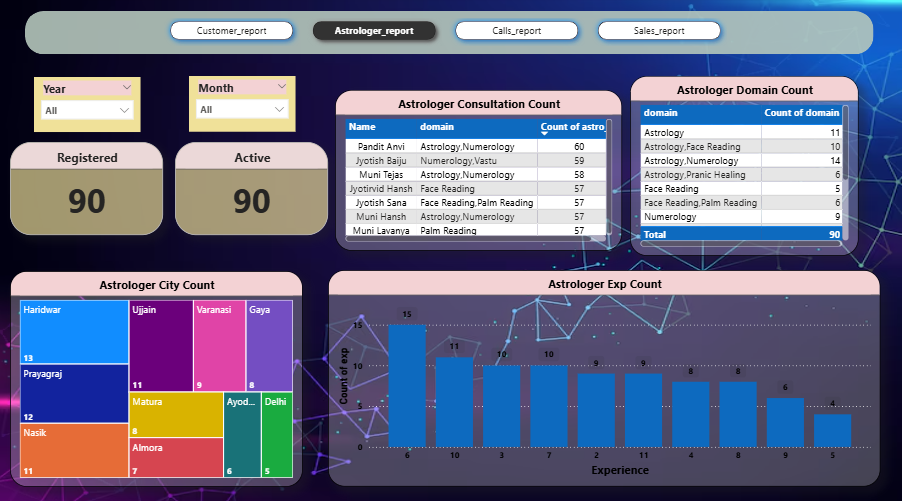

The dashboard page shown, as its layout file describes it:
{"tool":"powerbi","page":{"name":"Astrologer_report","canvas":[1280,720],"ordinal":1},"visuals":[{"type":"card","title":"Registered","fields":{"Values":["All Measures.Registered_astrologers"]},"box":[17.3,205.9,217.4,132.5],"z":0},{"type":"card","title":"Active","fields":{"Values":["All Measures.Active_astrologer"]},"box":[250.6,205.9,217.4,132.5],"z":1000},{"type":"treemap","title":"Astrologer City Count","fields":{"Group":["astro.address"],"Values":["astro.address"]},"box":[16.8,388,414.9,305.7],"z":2000},{"type":"columnChart","title":"Astrologer Exp Count","fields":{"Category":["astro.exp"],"Y":["astro.exp"]},"box":[468,387.4,783.4,306.7],"z":3000},{"type":"slicer","fields":{"Values":["Date.Date.Variation.Date Hierarchy.Year"]},"box":[50.4,113.8,151.2,77.8],"z":4000},{"type":"slicer","fields":{"Values":["Date.Date.Variation.Date Hierarchy.Month"]},"box":[270.7,112.3,151.2,79.2],"z":5000},{"type":"tableEx","title":"Astrologer Domain Count","fields":{"Values":["astro.domain","astro.domain"]},"box":[895.7,112.3,324,254.9],"z":6000},{"type":"tableEx","title":"Astrologer Consultation Count","fields":{"Values":["astro.Name","calls_data.astro_id"]},"box":[534.2,132.5,279.4,227.5],"z":7000},{"type":"shape","box":[38.6,20,1202.8,61.5],"z":8000},{"type":"pageNavigator","box":[236,25.7,799.5,44.3],"z":9000}]}

Visuals, with their boxes in screenshot pixels (x1, y1, x2, y2), scaled from the page's 1280x720 canvas onto the 902x501 screenshot:
"Registered" card: bbox=[12, 143, 165, 235]
"Active" card: bbox=[177, 143, 330, 235]
"Astrologer City Count" treemap: bbox=[12, 270, 304, 483]
"Astrologer Exp Count" columnChart: bbox=[330, 270, 882, 483]
slicer - Date.Date.Variation.Date Hierarchy.Year: bbox=[36, 79, 142, 133]
slicer - Date.Date.Variation.Date Hierarchy.Month: bbox=[191, 78, 297, 133]
"Astrologer Domain Count" tableEx: bbox=[631, 78, 860, 256]
"Astrologer Consultation Count" tableEx: bbox=[376, 92, 573, 250]
shape: bbox=[27, 14, 875, 57]
pageNavigator: bbox=[166, 18, 730, 49]
